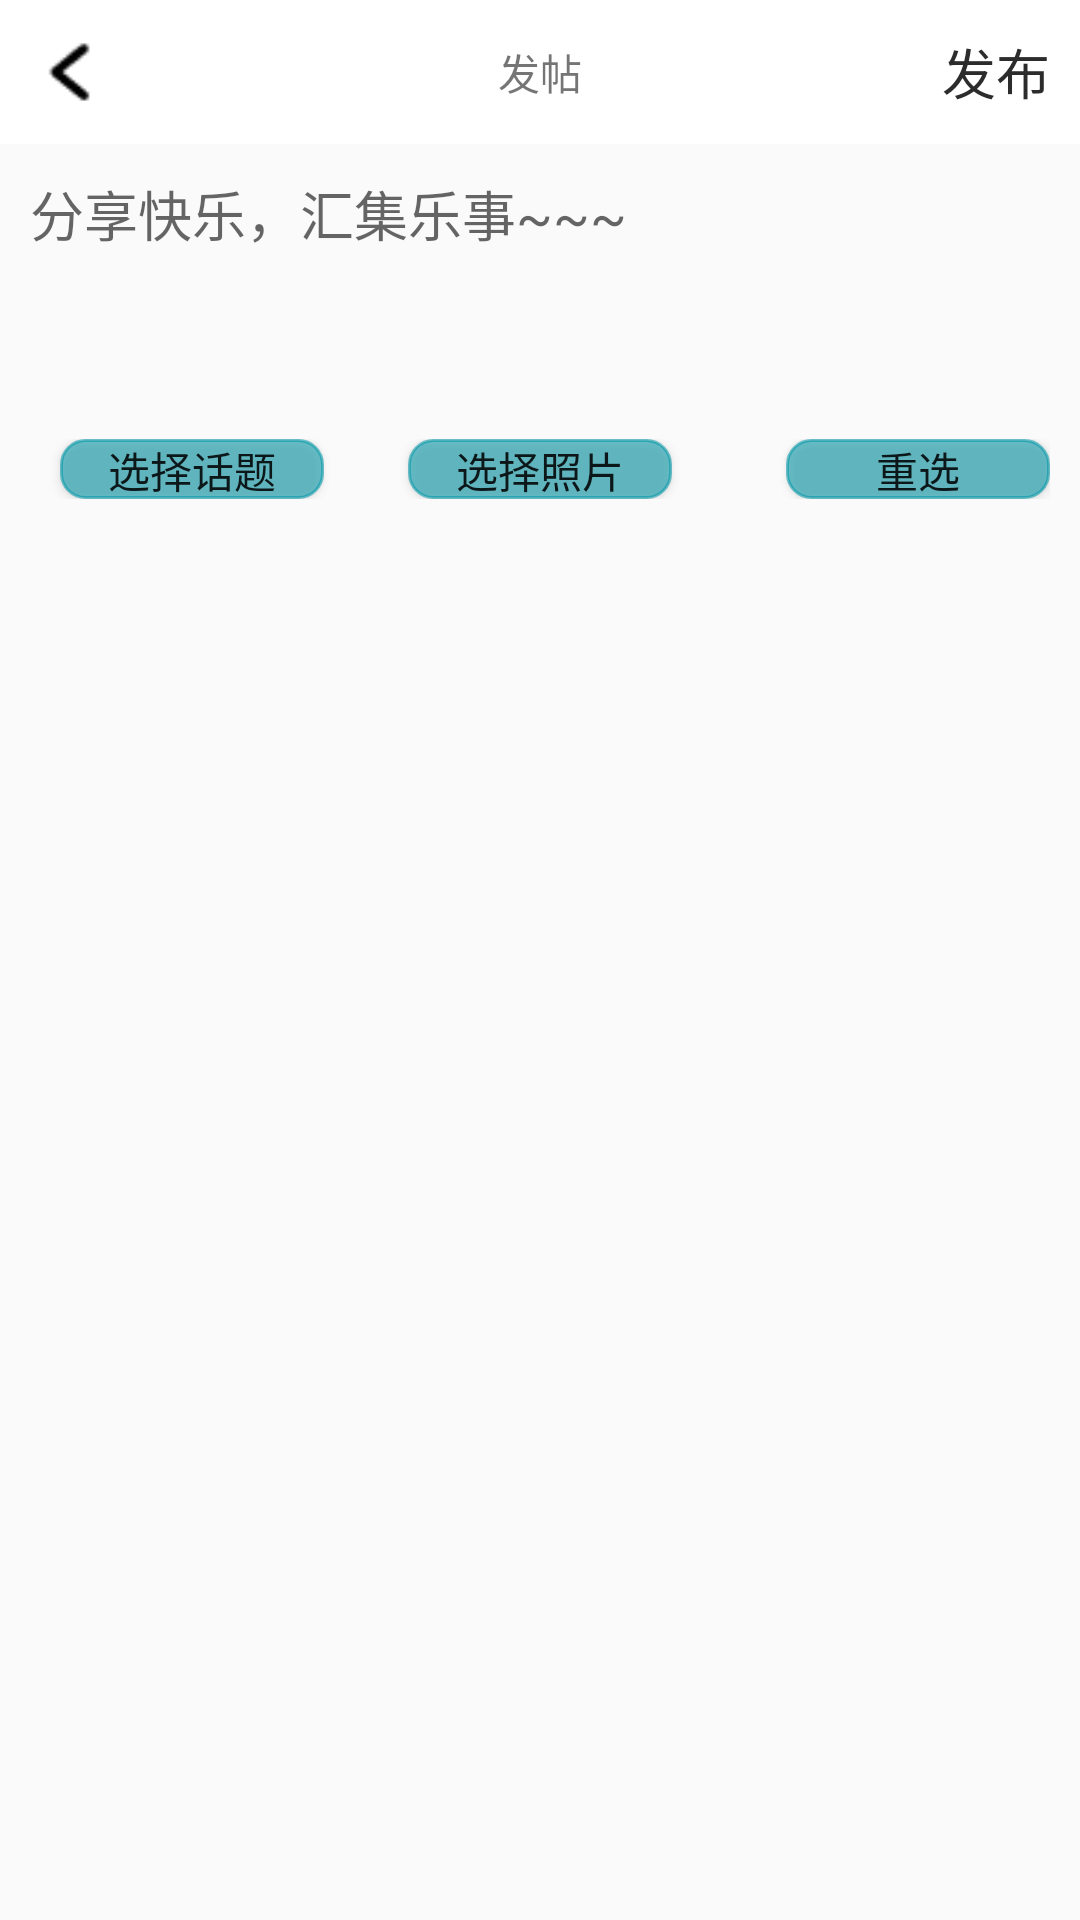

Where to tap for icons on this 1080px x 1920px app screen, as [x,y]:
fanhui: [69,72]
